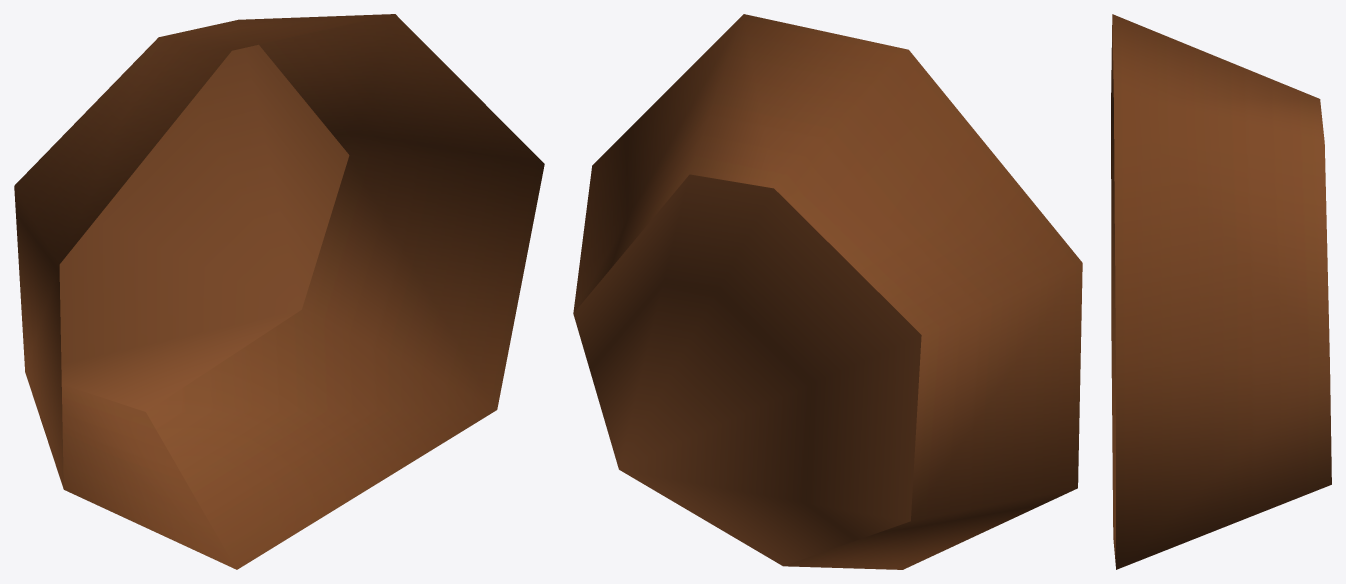
Rendered from Stone 02.FBX.
3 renders of one model, left to right at view 1: azimuth 30°, elevation 25°; view 2: azimuth 150°, elevation 25°; view 3: azimuth 270°, elevation 25°, orthographic.
Parts seen in each view (by area): view 1: Stone 02; view 2: Stone 02; view 3: Stone 02.
Part boxes in pixels (x1,y1,x2,y2): Stone 02: (14, 14, 544, 569); Stone 02: (573, 14, 1082, 569); Stone 02: (1111, 14, 1331, 569).
Bounding box in the file's own units: 44.78 × 45.7 × 17.57.
Materials: 1 (1 with a texture image).
